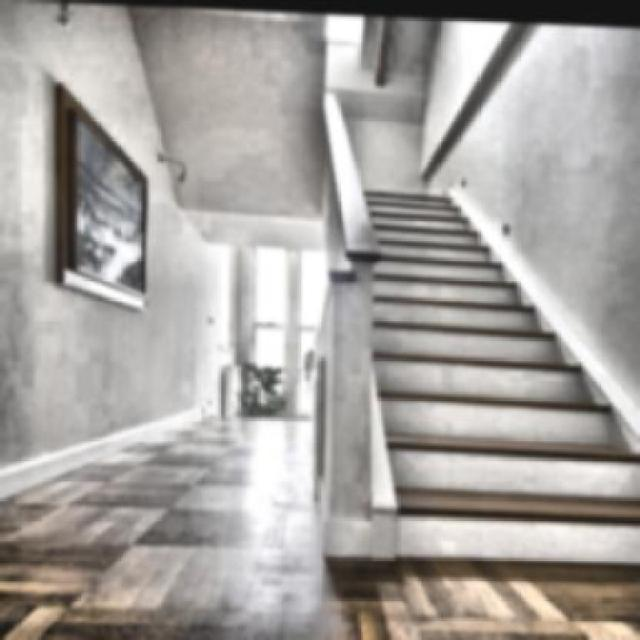stair: (329, 132, 640, 514)
